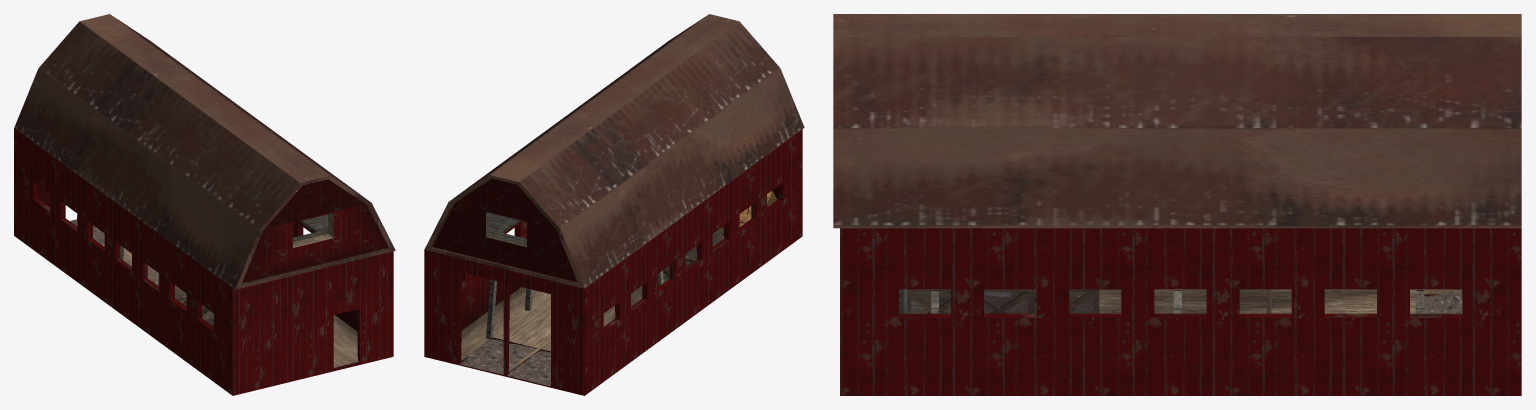
Rendered from obj_barn.glb.
The picture shows the model from 3 angles, left to right: view 1: azimuth 30°, elevation 25°; view 2: azimuth 150°, elevation 25°; view 3: azimuth 270°, elevation 25°; orthographic projection. The views are drawn at different scales.
Parts seen in each view (by area): view 1: body|Wood_Planks_Variation_1, body|Corrugated_Metal_Roofs, body|Old_wood, body|Wood_Planks; view 2: body|Corrugated_Metal_Roofs, body|Wood_Planks_Variation_1, body|Old_wood, body|Wet_ground_one, body|Wood_Planks; view 3: body|Corrugated_Metal_Roofs, body|Wood_Planks_Variation_1, body|Old_wood, body|wood_trunk_wall, body|Wet_ground_one.001, body|Wet_ground_one, body|Wood_Planks.
Boxes of the visible parts, <box> form: body|Wood_Planks_Variation_1: <box>14,128,393,395</box>; body|Corrugated_Metal_Roofs: <box>14,14,395,289</box>; body|Old_wood: <box>102,213,359,367</box>; body|Wood_Planks: <box>76,214,333,339</box>; body|Corrugated_Metal_Roofs: <box>424,14,804,288</box>; body|Wood_Planks_Variation_1: <box>424,129,802,395</box>; body|Old_wood: <box>461,212,667,371</box>; body|Wet_ground_one: <box>460,339,550,386</box>; body|Wood_Planks: <box>486,212,663,339</box>; body|Corrugated_Metal_Roofs: <box>833,14,1521,228</box>; body|Wood_Planks_Variation_1: <box>840,228,1521,395</box>; body|Old_wood: <box>1099,289,1462,313</box>; body|wood_trunk_wall: <box>899,289,1271,313</box>; body|Wet_ground_one.001: <box>911,292,1092,313</box>; body|Wet_ground_one: <box>1415,293,1462,313</box>; body|Wood_Planks: <box>931,289,1424,313</box>.
Size of the model in its own units: 6.52 by 7.7 by 15.52.
Materials: 11 (11 with a texture image).
